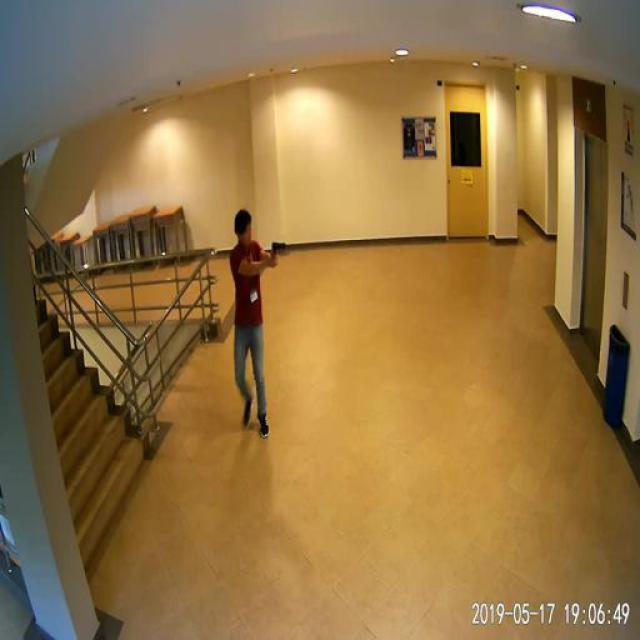weapon: (270, 241, 290, 261)
